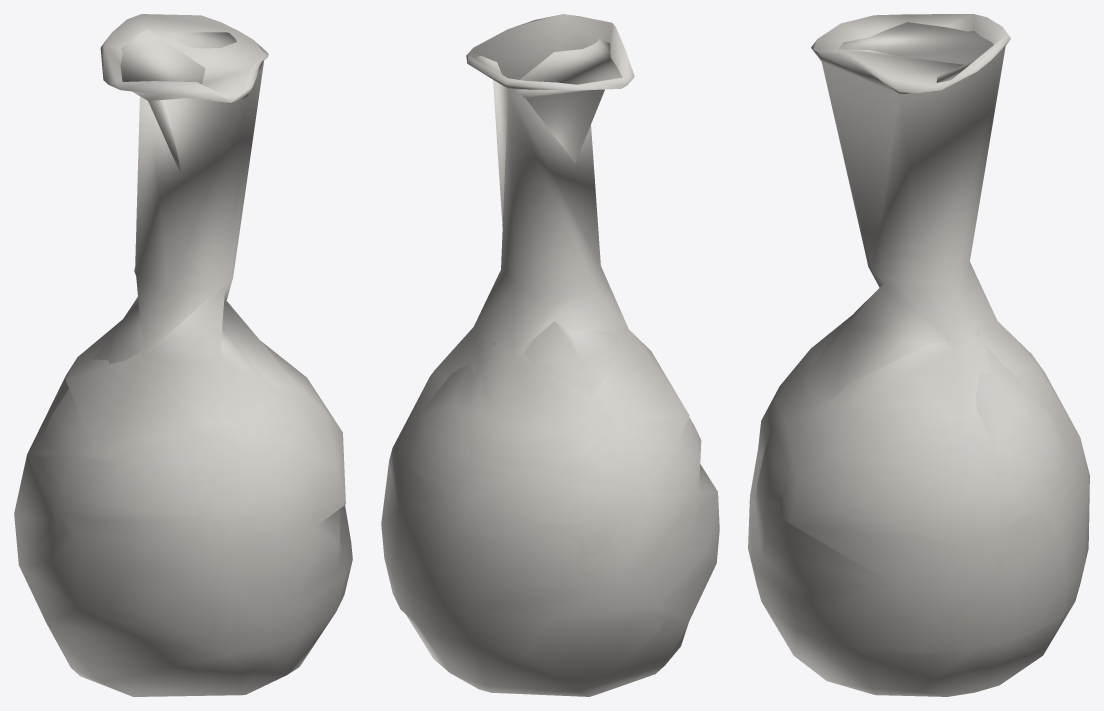
3 views of the same model, side by side, from view 1: azimuth 30°, elevation 25°; view 2: azimuth 150°, elevation 25°; view 3: azimuth 270°, elevation 25° (orthographic).
Visible parts, largest first — view 1: ceramic_vase_01; view 2: ceramic_vase_01; view 3: ceramic_vase_01.
Boxes of the visible parts, box(x1,y1,x2,y2) form: ceramic_vase_01: box(14, 14, 352, 696); ceramic_vase_01: box(381, 14, 719, 696); ceramic_vase_01: box(748, 14, 1089, 696).
Size of the model in its own units: 0.2022 by 0.3998 by 0.2007.
Materials: 1 (1 with a texture image).
